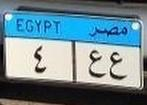4: (33, 44, 47, 78)
ain: (109, 51, 127, 81), (89, 50, 104, 79)
